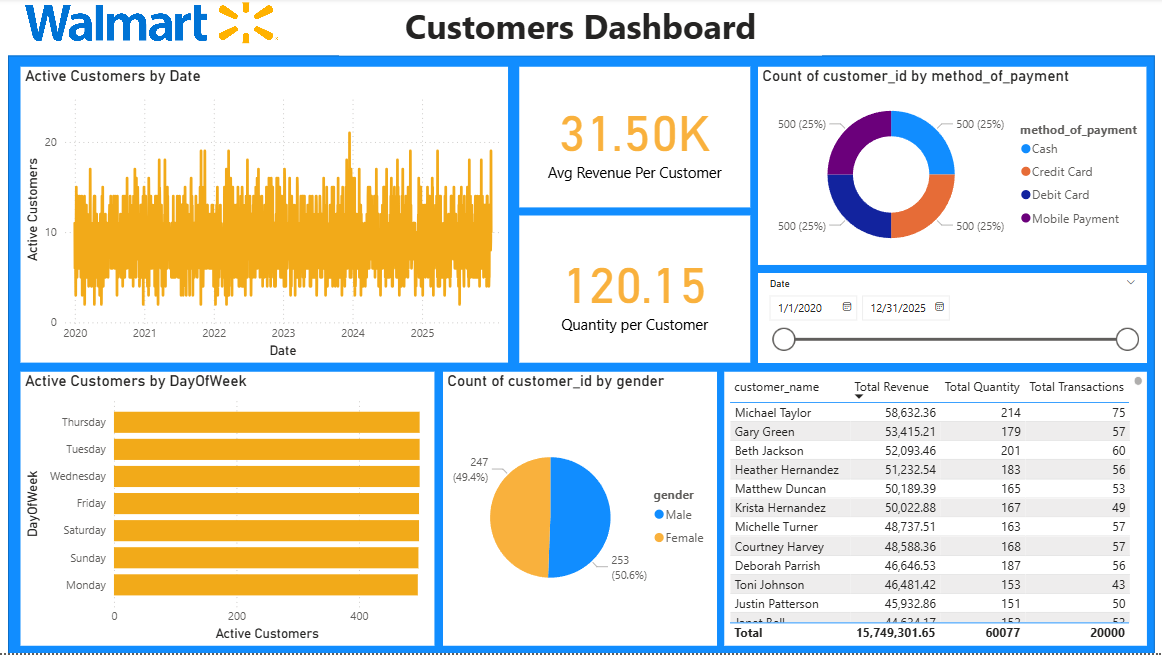

The page's visual inventory and layout, read from the dashboard file:
{"tool":"powerbi","page":{"name":"Customers","canvas":[1280,720],"ordinal":4},"visuals":[{"type":"shape","box":[11.2,63.4,1258.9,656.8],"z":0},{"type":"image","box":[24.9,0,288.6,54.7],"z":1000},{"type":"textbox","box":[374.4,0,529.9,63.4],"z":2000},{"type":"donutChart","fields":{"Category":["FactSales.method_of_payment"],"Y":["Count(FactSales.customer_id)"]},"box":[834.7,75.9,426.7,217.7],"z":2001},{"type":"tableEx","fields":{"Values":["FactSales.customer_name","FactSales.Total Revenue","FactSales.Total Quantity","FactSales.Total Transactions"]},"box":[797.4,410.5,464,301],"z":2002},{"type":"clusteredBarChart","fields":{"Category":["DimDate.DayOfWeek"],"Y":["FactSales.Active Customers"]},"box":[24.9,410.5,454,301],"z":2003},{"type":"lineChart","fields":{"Category":["DimDate.Date"],"Y":["FactSales.Active Customers"]},"box":[24.9,75.9,534.9,324.7],"z":2004},{"type":"pieChart","fields":{"Category":["FactSales.gender"],"Y":["Count(FactSales.customer_id)"]},"box":[488.9,410.5,301,301],"z":2005},{"type":"card","fields":{"Values":["FactSales.Avg Revenue Per Customer"]},"box":[572.2,75.9,253.8,154.3],"z":2006},{"type":"card","fields":{"Values":["FactSales.Quantity per Customer"]},"box":[572.2,238.8,253.8,161.7],"z":2007},{"type":"slicer","fields":{"Values":["DimDate.Date"]},"box":[834.7,302.3,426.7,98.3],"z":2008}]}

Visuals, with their boxes in screenshot pixels (x1, y1, x2, y2), scaled from the page's 1280x720 canvas onto the 1162x663 screenshot:
shape: 10/58/1153/662
image: 23/0/285/50
textbox: 340/0/821/58
donutChart - FactSales.method_of_payment x Count(FactSales.customer_id): 758/70/1145/270
tableEx - FactSales.customer_name x FactSales.Total Revenue: 724/378/1145/655
clusteredBarChart - DimDate.DayOfWeek x FactSales.Active Customers: 23/378/435/655
lineChart - DimDate.Date x FactSales.Active Customers: 23/70/508/369
pieChart - FactSales.gender x Count(FactSales.customer_id): 444/378/717/655
card - FactSales.Avg Revenue Per Customer: 519/70/750/212
card - FactSales.Quantity per Customer: 519/220/750/369
slicer - DimDate.Date: 758/278/1145/369
